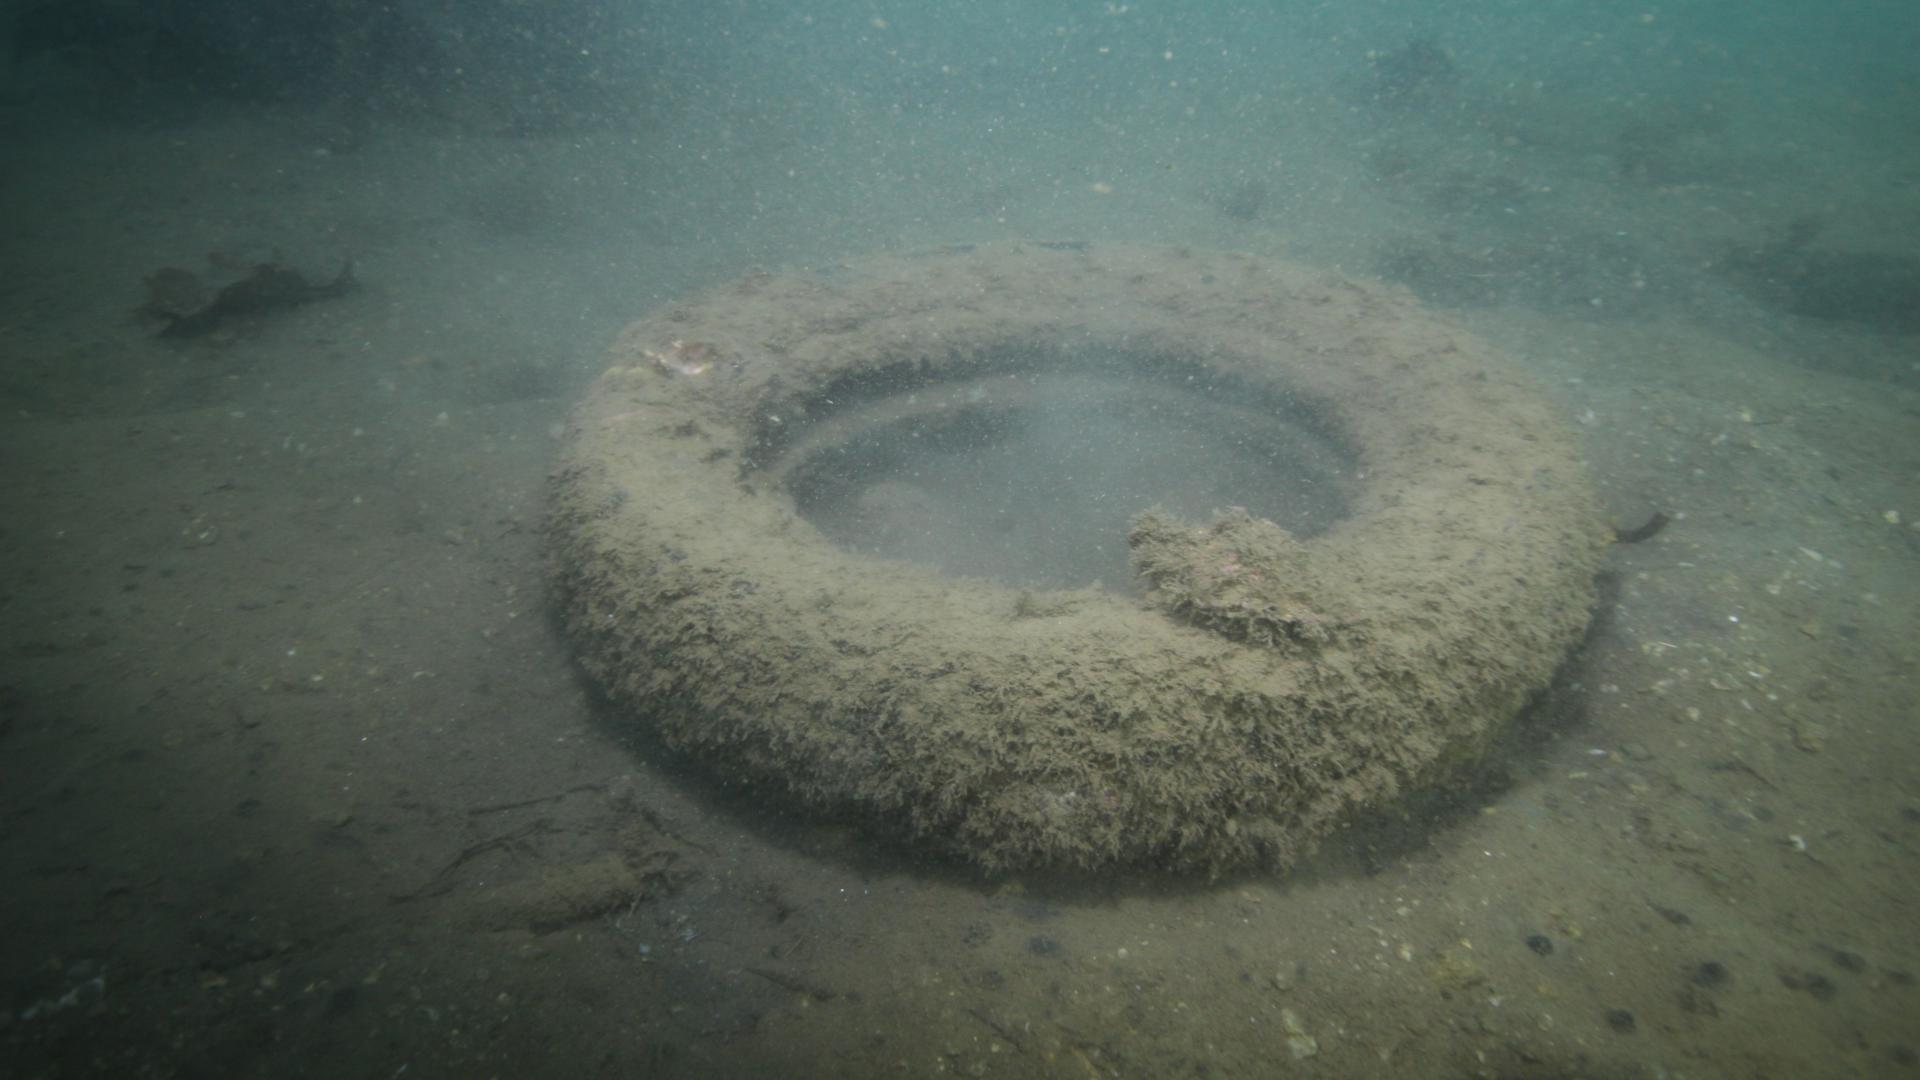tire: (543, 235, 1597, 876)
